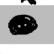correct: (7, 11, 39, 37)
